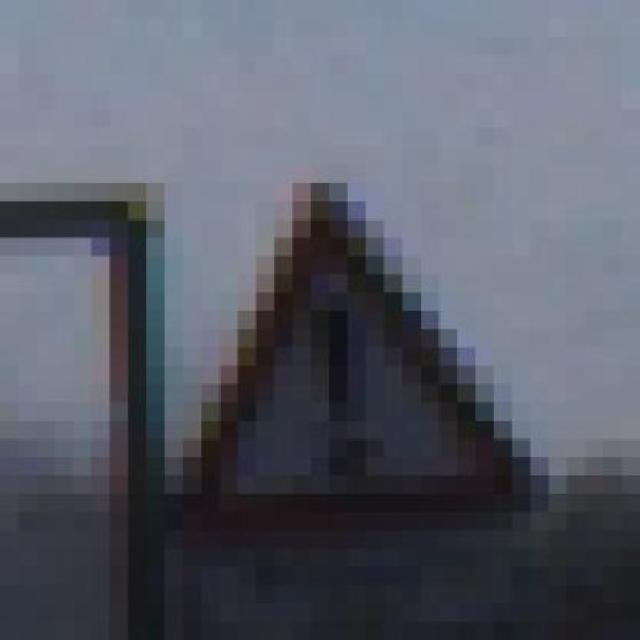Attention Please-: (146, 146, 568, 568)
